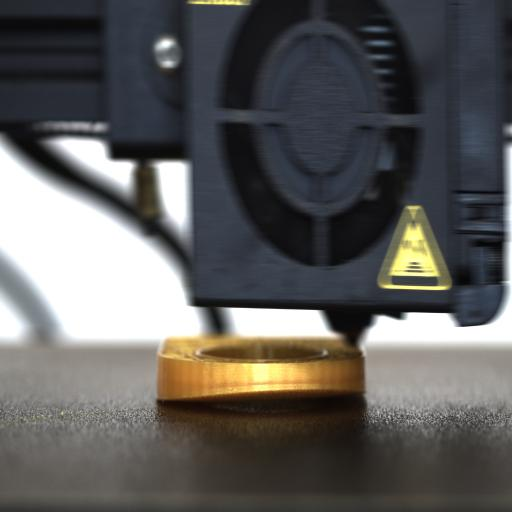warp: (155, 378, 367, 418)
